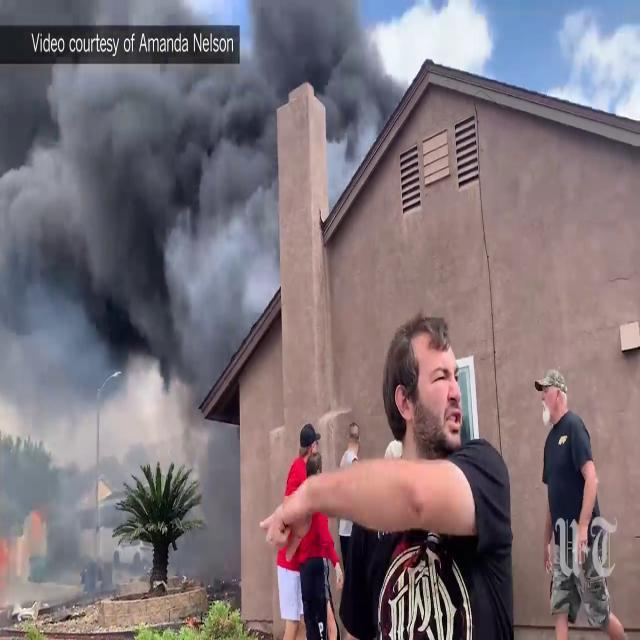Smoke: (0, 2, 312, 504)
